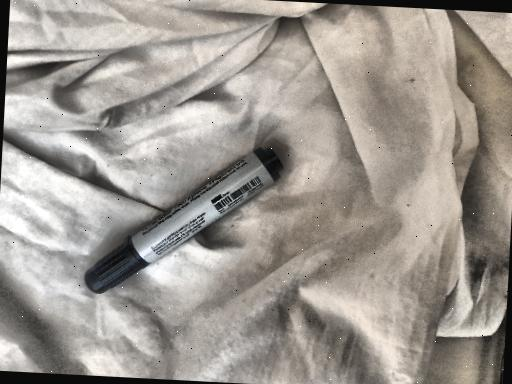marcador negro: (84, 148, 282, 293)
